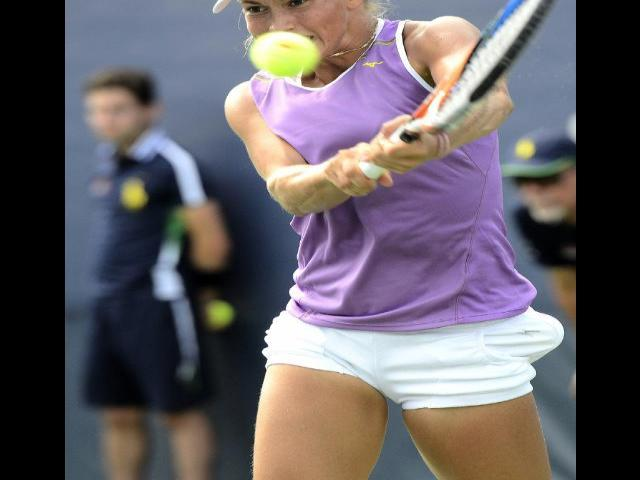tennis-ball: (248, 32, 318, 76)
